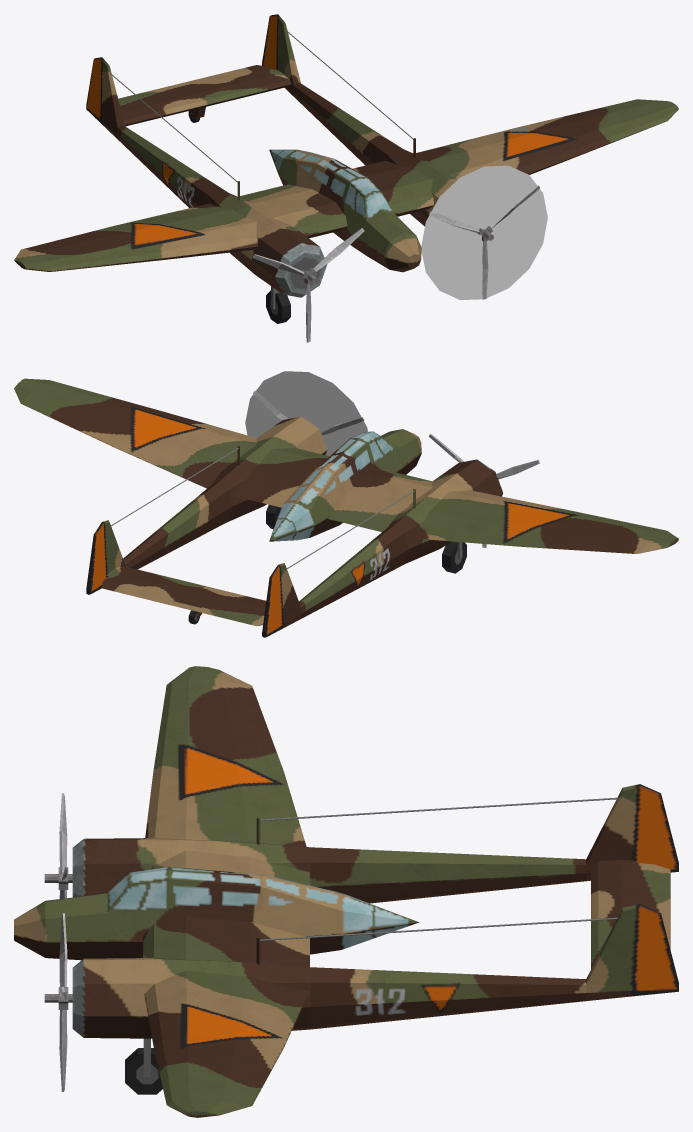
File: Fokker G1.fbx
3 renders of one model, top to bottom at view 1: azimuth 30°, elevation 25°; view 2: azimuth 150°, elevation 25°; view 3: azimuth 270°, elevation 25°, orthographic. The views are drawn at different scales.
Parts seen in each view (by area): view 1: Fokker G1. GM, Circle, Fokker G1 Elevator, Fokker G1 Propler R, Fokker G1 Propler L.001, Fokker G1 RudderR, Fokker G1 RudderL, RightFrontWheel, Fokker G1 AileronL; view 2: Fokker G1. GM, Circle, Fokker G1 Elevator, Fokker G1 AileronL, Fokker G1 RudderR, Fokker G1 AileronR, Fokker G1 RudderL, RightFrontWheel, Fokker G1 Propler R, Fokker G1 Propler L.001; view 3: Fokker G1. GM, Fokker G1 RudderL, Fokker G1 RudderR, Fokker G1 Elevator, Fokker G1 AileronR, Fokker G1 Propler L.001, Fokker G1 AileronL, RightFrontWheel, Fokker G1 Propler R.
Part boxes in pixels (x1,y1,x2,y2): Fokker G1. GM: (14,23,678,297); Circle: (421,165,547,300); Fokker G1 Elevator: (118,65,273,107); Fokker G1 Propler R: (252,228,364,342); Fokker G1 Propler L.001: (428,185,539,299); Fokker G1 RudderR: (86,57,110,122); Fokker G1 RudderL: (262,14,286,69); RightFrontWheel: (266,290,290,323); Fokker G1 AileronL: (511,102,628,131); Fokker G1. GM: (14,378,678,628); Circle: (245,371,367,456); Fokker G1 Elevator: (102,576,264,626); Fokker G1 AileronL: (31,403,131,451); Fokker G1 RudderR: (262,563,285,637); Fokker G1 AileronR: (511,535,629,553); Fokker G1 RudderL: (86,520,110,594); RightFrontWheel: (266,504,466,573); Fokker G1 Propler R: (429,433,539,547); Fokker G1 Propler L.001: (252,390,364,435); Fokker G1. GM: (14,666,636,1117); Fokker G1 RudderL: (619,904,678,995); Fokker G1 RudderR: (619,784,678,872); Fokker G1 Elevator: (636,863,670,949); Fokker G1 AileronR: (242,692,285,778); Fokker G1 Propler L.001: (44,913,72,1091); Fokker G1 AileronL: (242,1038,285,1099); RightFrontWheel: (125,1048,162,1094); Fokker G1 Propler R: (44,793,72,898).
Size of the model in its own units: 17.19 by 3.38 by 10.84.
